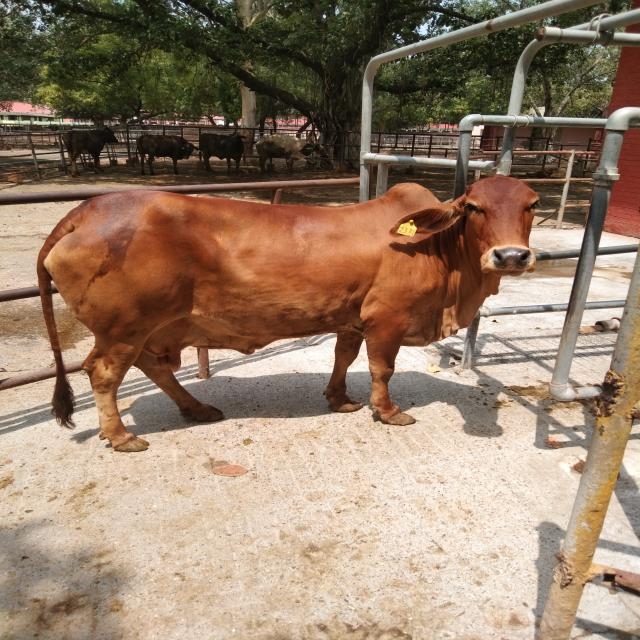1: (373, 180, 443, 199)
Hoof: (113, 437, 149, 452), (193, 405, 224, 422), (380, 411, 416, 425), (327, 399, 363, 412)
